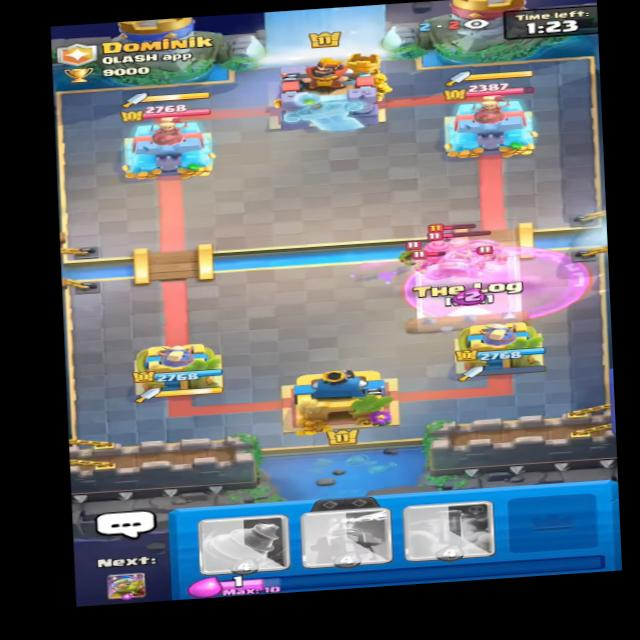goblin-machine: (418, 227, 507, 280)
rage: (401, 242, 595, 327)
